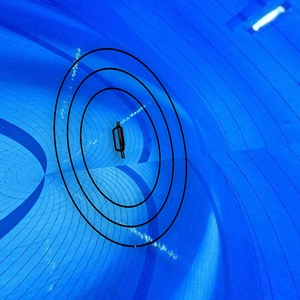circle: (51, 42, 197, 252)
submarine: (107, 120, 133, 163)
